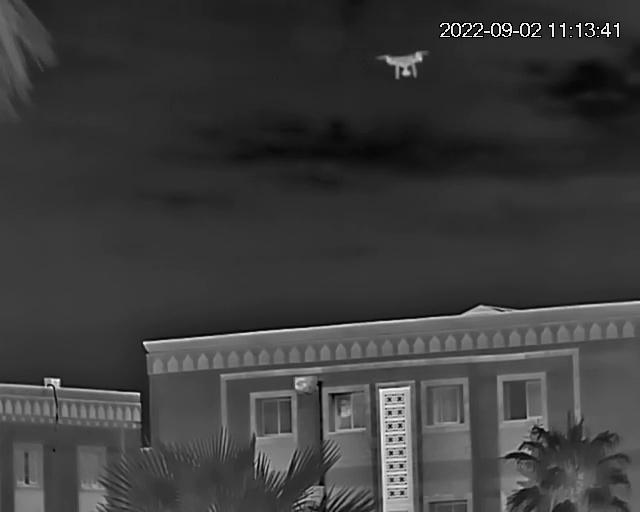DJI-Phantom: (378, 48, 429, 80)
